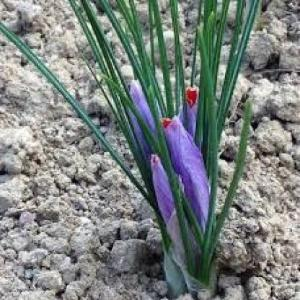Saffron: (164, 118, 224, 240), (146, 155, 189, 251)
